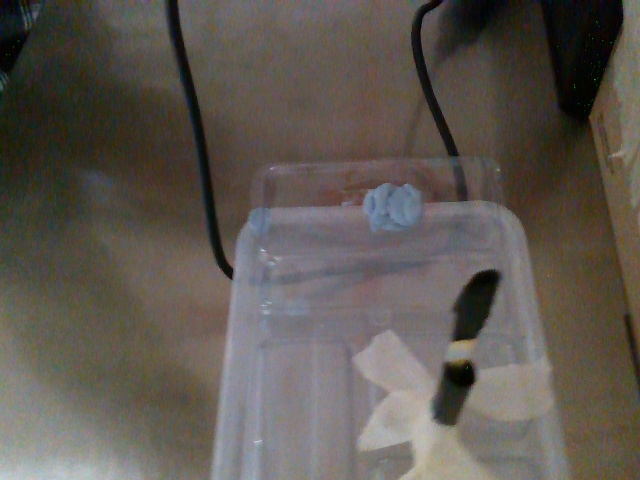test_strip: (443, 268, 500, 363)
